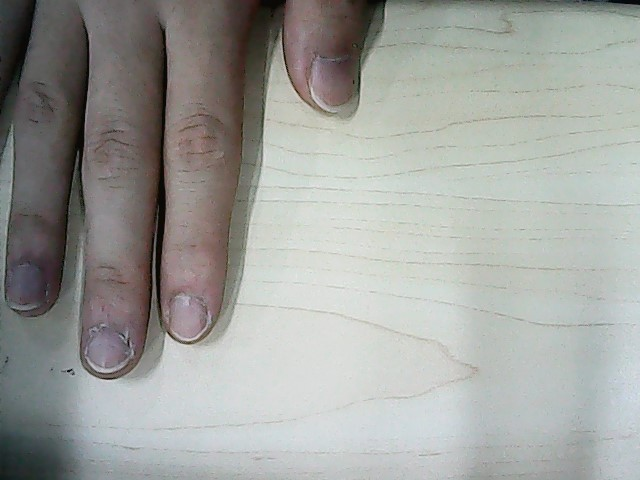nail: (312, 58, 355, 115), (86, 331, 129, 374), (8, 267, 43, 313), (171, 298, 205, 341)
